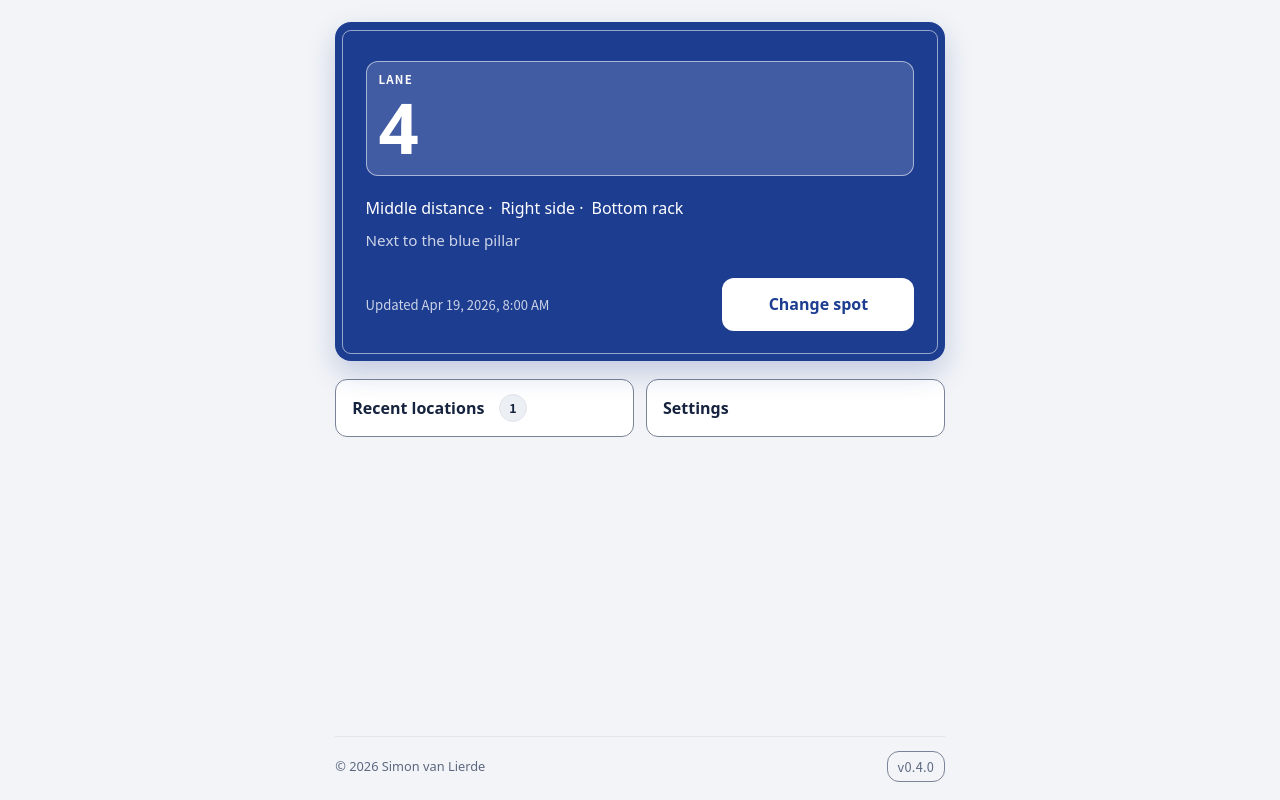
Scenario: clearing parking data › asks inside the sheet and never opens a native dialog
Click the button "Settings" at (696, 408), box [646, 378, 945, 437]
(page scrolled)
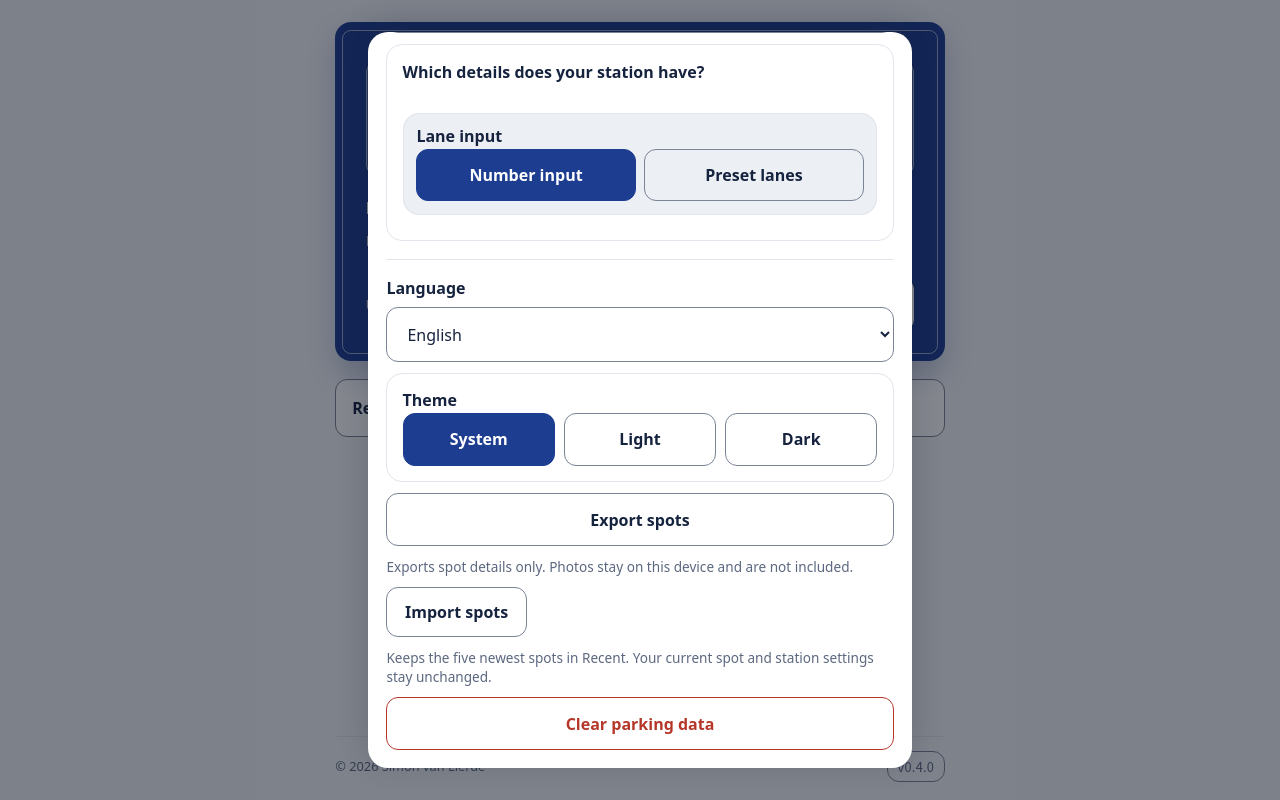
Click the button "Clear parking data" at (640, 724), box [386, 697, 894, 750]
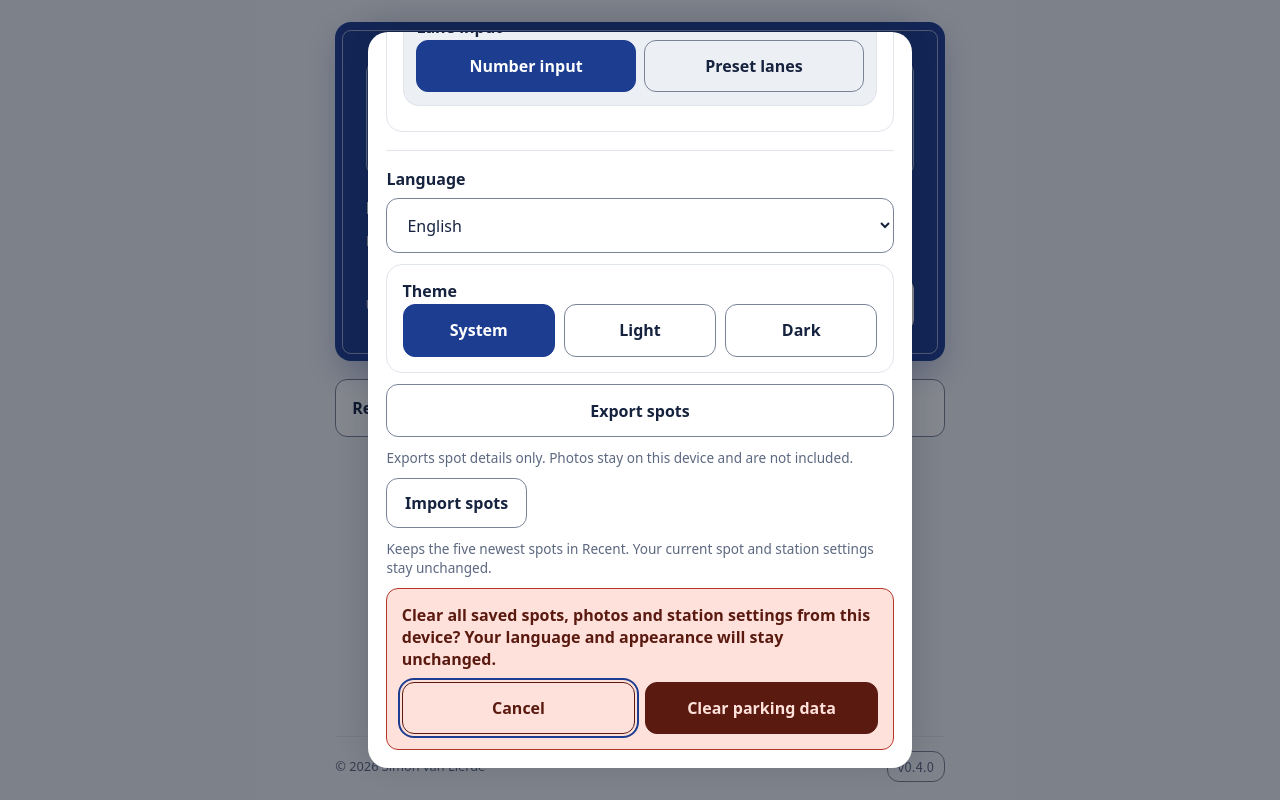
Now the text "Clear all saved spots, photos and station settings from this device? Your language and appearance will stay unchanged." is shown, box [402, 604, 870, 670]
